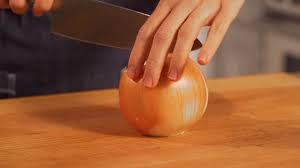Onion: (117, 50, 205, 138)
